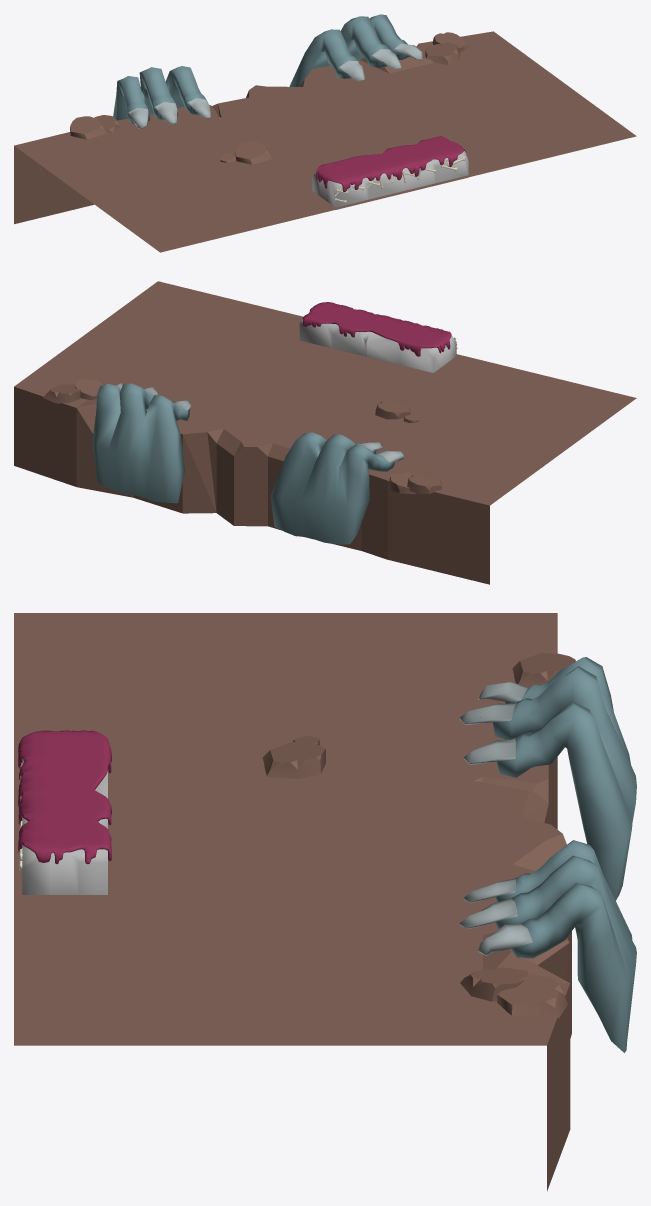
Rendered from Terreno_alt.FBX.
The picture shows the model from 3 angles, top to bottom: view 1: azimuth 30°, elevation 25°; view 2: azimuth 150°, elevation 25°; view 3: azimuth 270°, elevation 25°; orthographic projection. The views are drawn at different scales.
Visible parts, largest first — view 1: tereno, Altar, maoE, MaoD, Box005, Box006, Box008, Box004; view 2: tereno, MaoD, maoE, Altar, Box006, Box005, Box004, Box008; view 3: tereno, MaoD, maoE, Altar, Box004, Box005, Box008, Box006.
Boxes of the visible parts, x1,y1,x2,y2 form: tereno: [14, 31, 636, 252]; Altar: [312, 136, 468, 209]; maoE: [289, 14, 422, 86]; MaoD: [113, 66, 210, 128]; Box005: [235, 141, 272, 164]; Box006: [70, 116, 106, 139]; Box008: [425, 42, 460, 65]; Box004: [432, 32, 469, 52]; tereno: [14, 281, 636, 584]; MaoD: [270, 432, 403, 544]; maoE: [92, 383, 191, 503]; Altar: [299, 302, 457, 372]; Box006: [407, 474, 441, 493]; Box005: [375, 400, 410, 419]; Box004: [43, 384, 80, 403]; Box008: [74, 379, 104, 399]; tereno: [14, 613, 571, 1191]; MaoD: [459, 657, 636, 900]; maoE: [459, 840, 636, 1052]; Altar: [18, 730, 111, 894]; Box004: [497, 975, 567, 1018]; Box005: [262, 742, 325, 779]; Box008: [460, 967, 528, 1001]; Box006: [512, 652, 575, 684].
Bounding box in the file's own units: 608 × 144 × 370.
